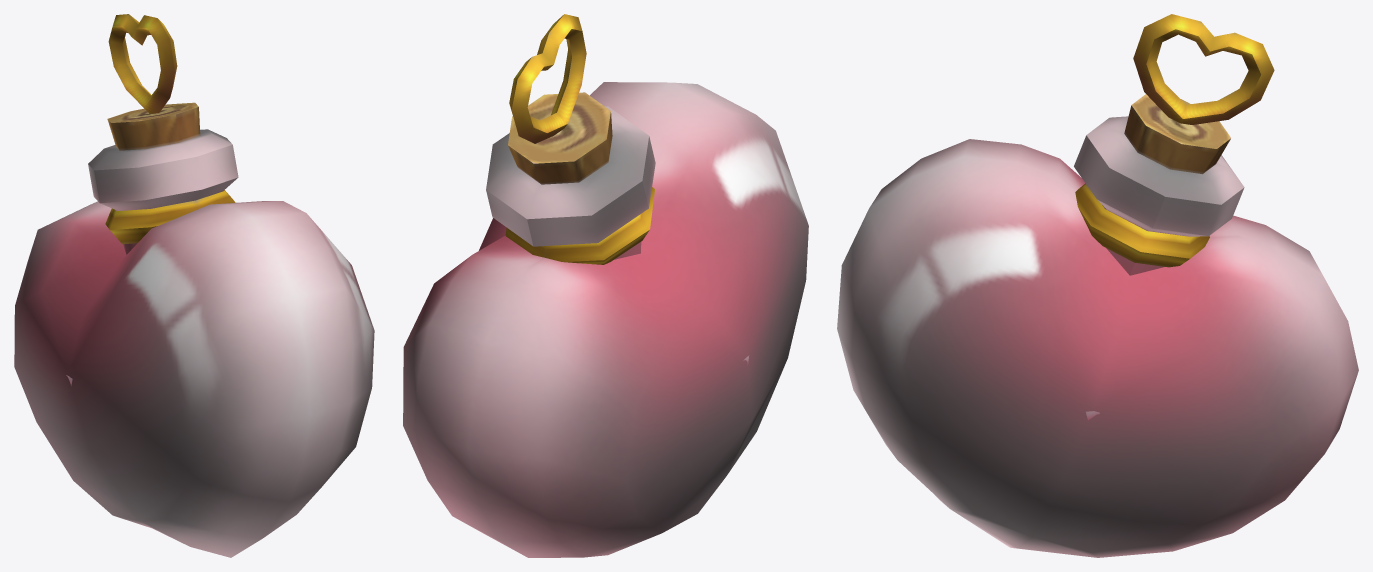
Rendered from scenes_common_blood01.FBX.
3 views of the same model, side by side, from view 1: azimuth 30°, elevation 25°; view 2: azimuth 150°, elevation 25°; view 3: azimuth 270°, elevation 25° (orthographic). The views are drawn at different scales.
Parts seen in each view (by area): view 1: scenes_common_blood01; view 2: scenes_common_blood01; view 3: scenes_common_blood01.
Boxes of the visible parts, x1=… form: scenes_common_blood01: x1=14, y1=14, x2=374, y2=557; scenes_common_blood01: x1=403, y1=14, x2=808, y2=557; scenes_common_blood01: x1=837, y1=14, x2=1358, y2=557.
Size of the model in its own units: 53.55 by 99.55 by 87.44.
